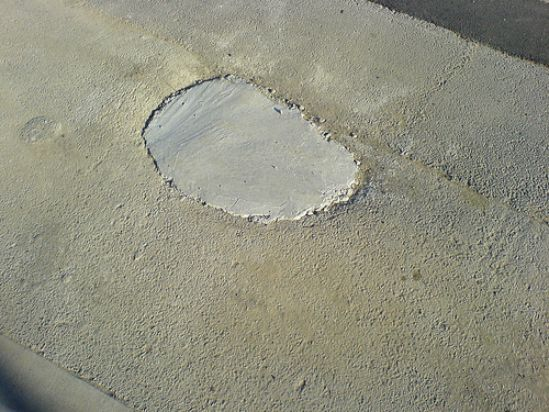pothole: (137, 68, 372, 224)
